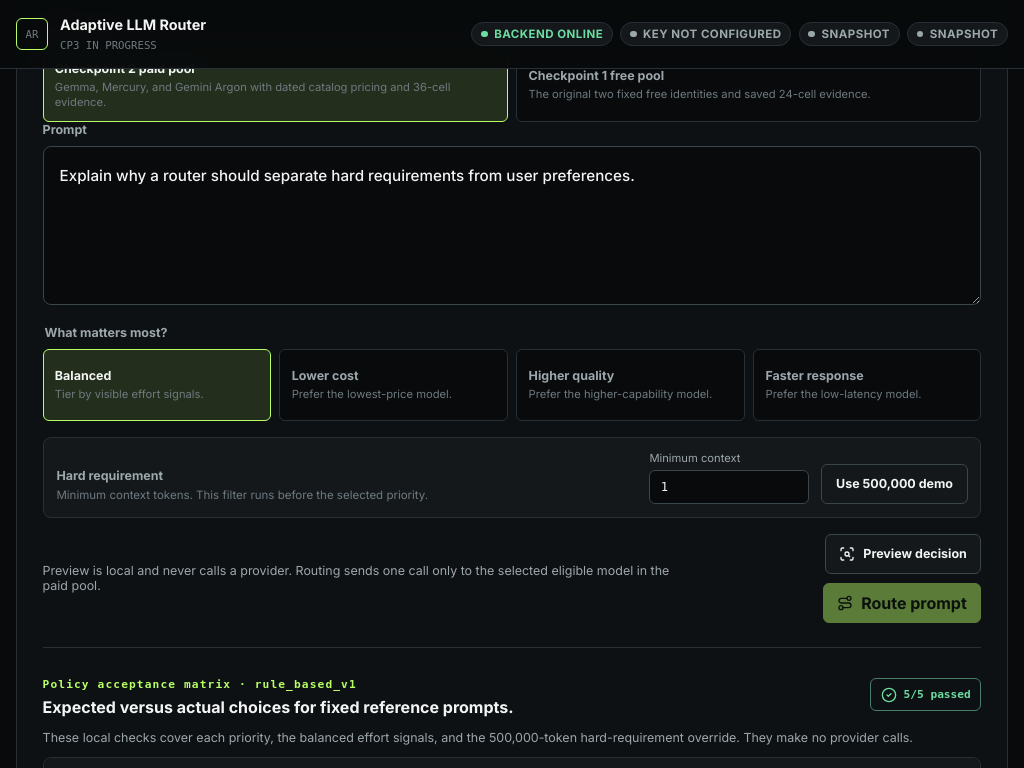
it: previews a different route priority without a provider credential
The width and height of the screenshot is (1024, 768).
(page scrolled)
Expected: the text "Adaptive LLM Router" is shown, [60,16,206,32]
Click the button "Higher quality Prefer the higher-capability model.": (630, 385) [516,349,744,421]
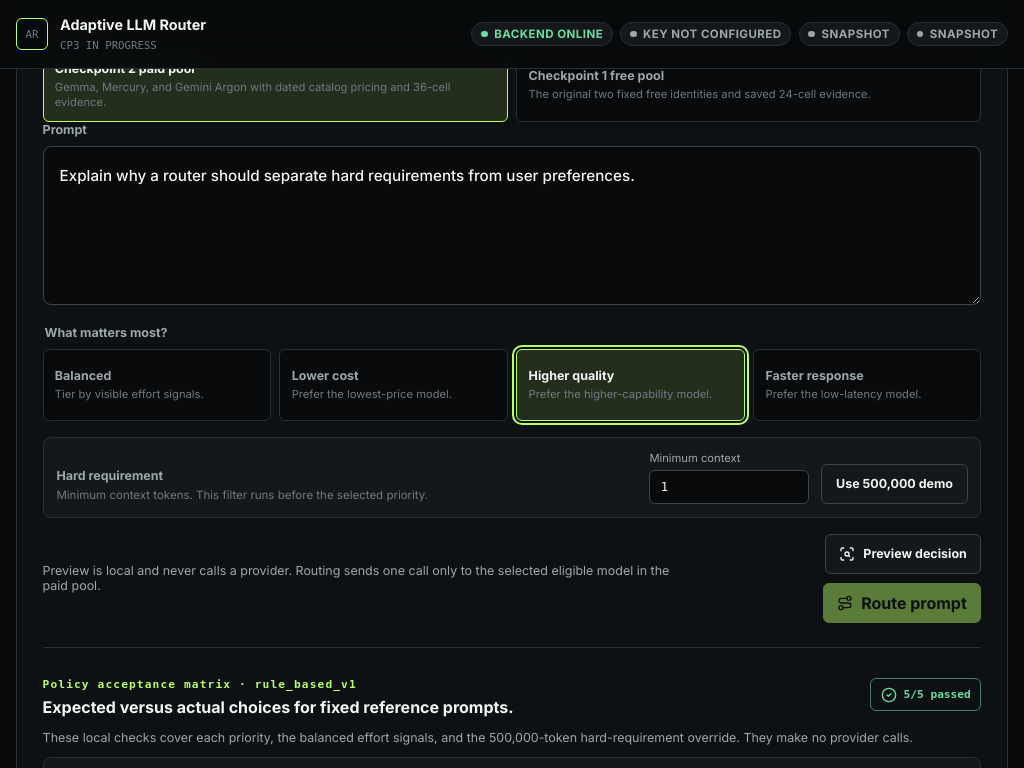
Click the button "Preview decision": (903, 554) [825,534,981,574]
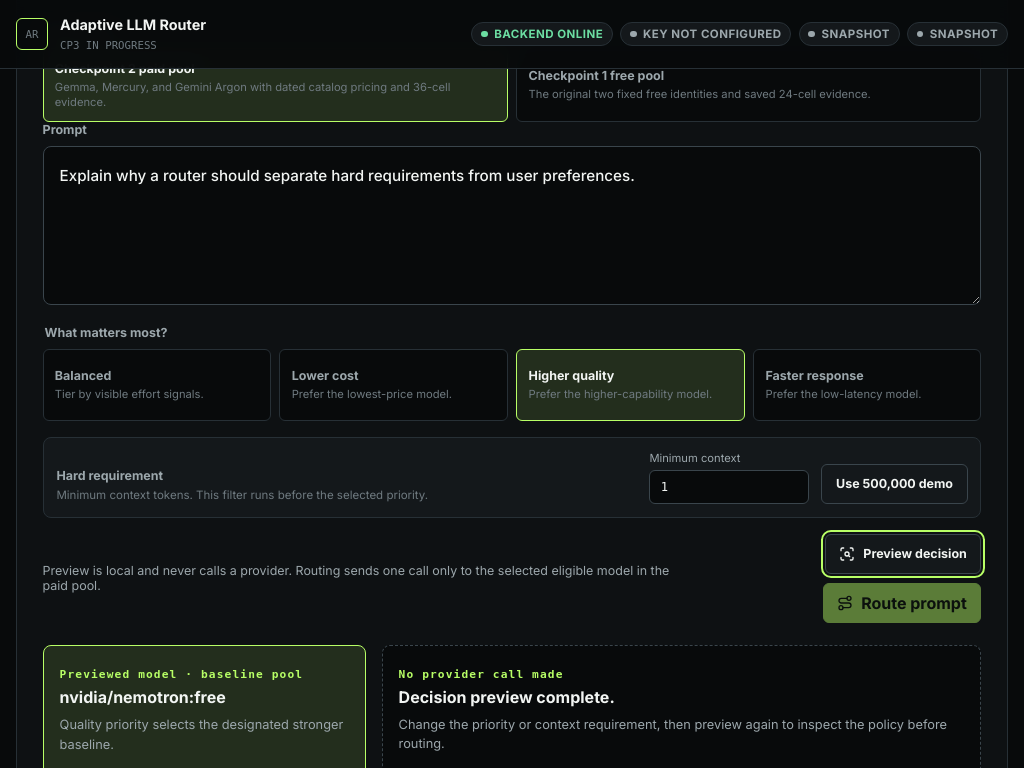
Expected: the text "Previewed model · baseline pool" is shown, [60,668,303,681]
Expected: the heading "nvidia/nemotron:free" is shown, [60,687,226,707]
